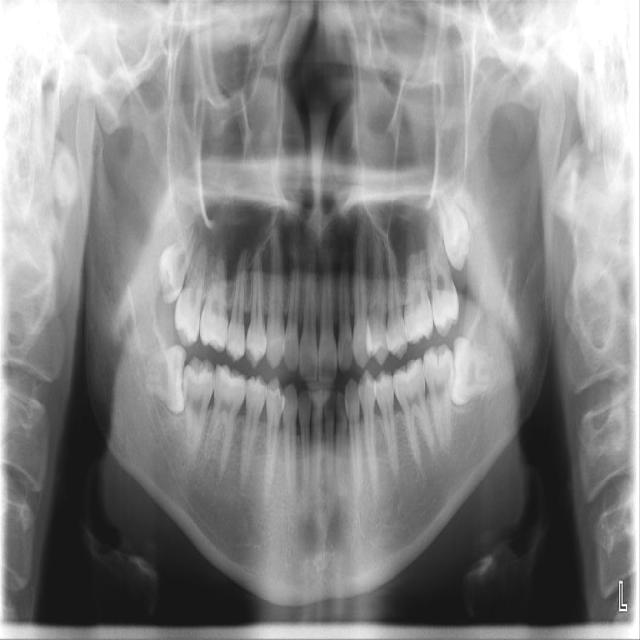impacted tooth: (140, 345, 186, 411), (160, 220, 196, 301), (454, 337, 498, 403), (433, 188, 470, 263)
